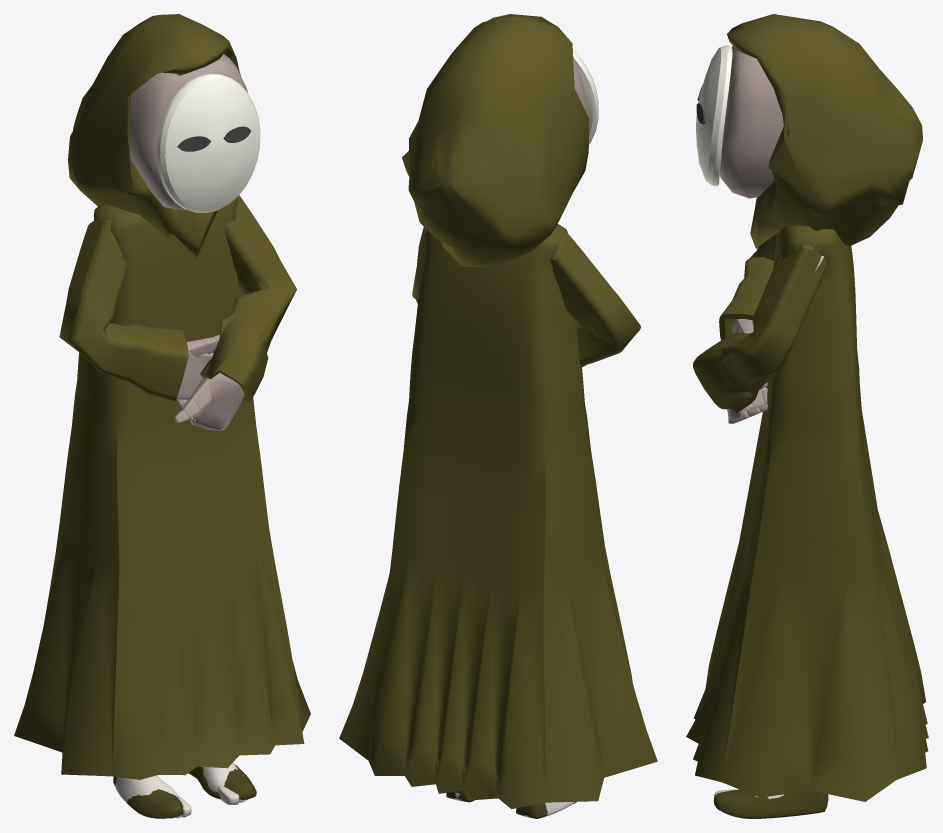
File: Cancer.fbx
3 renders of one model, left to right at view 1: azimuth 30°, elevation 25°; view 2: azimuth 150°, elevation 25°; view 3: azimuth 270°, elevation 25°, orthographic.
Visible parts, largest first — view 1: polySurface3, Caputxa1, polySurface8, màscara, polySurface9, head_geo, R_palm_R_geo (×2), foot_R_geo, foot_L_geo, foot_R_geo1; view 2: polySurface3, Caputxa1, polySurface8, màscara; view 3: polySurface3, Caputxa1, polySurface9, head_geo, màscara, foot_L_geo, polySurface8.
Boxes of the visible parts, left/top/right/bottom form: polySurface3: left=14, top=197, right=310, bottom=779; Caputxa1: left=68, top=14, right=240, bottom=257; polySurface8: left=59, top=218, right=188, bottom=401; màscara: left=157, top=73, right=260, bottom=212; polySurface9: left=200, top=195, right=296, bottom=401; head_geo: left=129, top=53, right=247, bottom=210; R_palm_R_geo (×2): left=176, top=351, right=244, bottom=430; foot_R_geo: left=113, top=776, right=183, bottom=818; foot_L_geo: left=188, top=764, right=256, bottom=799; foot_R_geo1: left=115, top=775, right=178, bottom=802; polySurface3: left=339, top=224, right=657, bottom=808; Caputxa1: left=402, top=14, right=588, bottom=267; polySurface8: left=550, top=232, right=640, bottom=367; màscara: left=573, top=49, right=598, bottom=143; polySurface3: left=686, top=225, right=928, bottom=801; Caputxa1: left=727, top=14, right=922, bottom=248; polySurface9: left=693, top=244, right=827, bottom=413; head_geo: left=719, top=46, right=783, bottom=198; màscara: left=696, top=45, right=732, bottom=186; foot_L_geo: left=713, top=789, right=828, bottom=818; polySurface8: left=719, top=233, right=776, bottom=340.
Bounding box in the file's own units: 1.24 × 3.48 × 0.9859.
